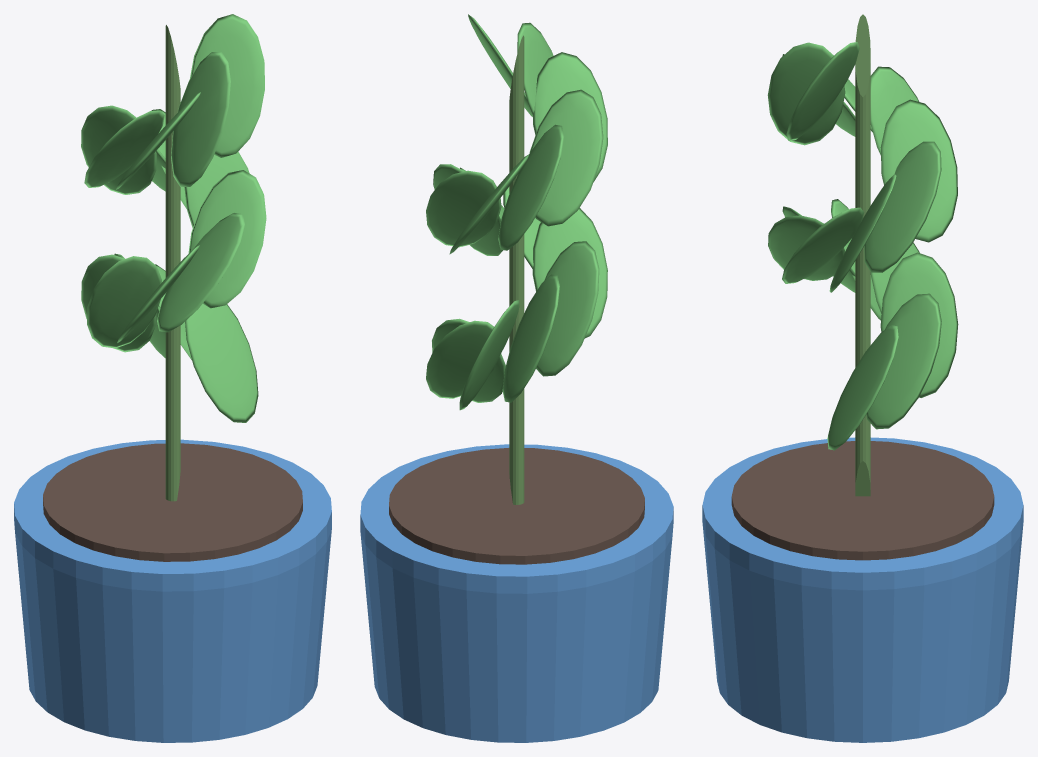
The picture shows the model from 3 angles, left to right: view 1: azimuth 30°, elevation 25°; view 2: azimuth 150°, elevation 25°; view 3: azimuth 270°, elevation 25°; orthographic projection. The views are drawn at different scales.
Parts seen in each view (by area): view 1: Pot_Complete, Leaves, Soil, Stem; view 2: Pot_Complete, Leaves, Soil, Stem; view 3: Pot_Complete, Leaves, Soil, Stem.
Boxes of the visible parts, x1=… form: Pot_Complete: x1=14, y1=439, x2=331, y2=742; Leaves: x1=81, y1=14, x2=266, y2=422; Soil: x1=43, y1=443, x2=302, y2=561; Stem: x1=165, y1=25, x2=180, y2=501; Pot_Complete: x1=360, y1=444, x2=673, y2=742; Leaves: x1=426, y1=14, x2=607, y2=410; Soil: x1=389, y1=448, x2=644, y2=564; Stem: x1=509, y1=35, x2=524, y2=504; Pot_Complete: x1=702, y1=437, x2=1023, y2=742; Leaves: x1=767, y1=42, x2=958, y2=450; Soil: x1=731, y1=441, x2=994, y2=560; Stem: x1=855, y1=14, x2=870, y2=496.
Bounding box in the file's own units: 0.33 × 0.7538 × 0.33.
